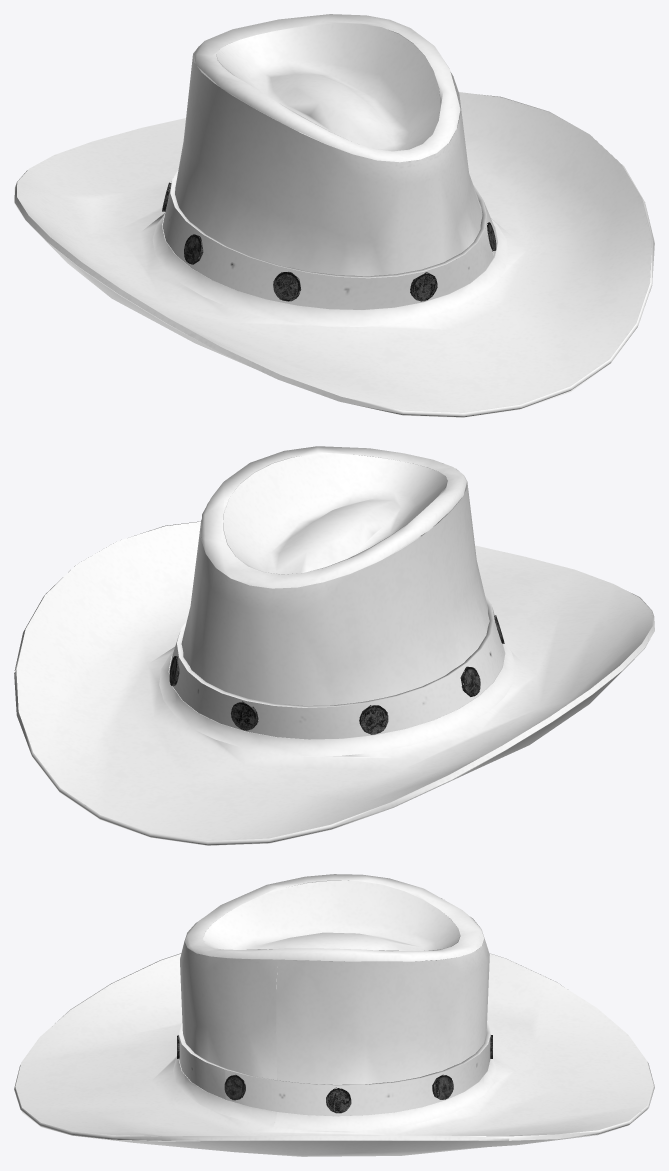
File: hat_white_cowboy.glb
3 views of the same model, one above another, from view 1: azimuth 30°, elevation 25°; view 2: azimuth 150°, elevation 25°; view 3: azimuth 270°, elevation 25° (orthographic). The views are drawn at different scales.
Parts seen in each view (by area): view 1: Object_2; view 2: Object_2; view 3: Object_2.
Boxes of the visible parts, left/top/right/bottom form: Object_2: left=14, top=14, right=654, bottom=417; Object_2: left=14, top=446, right=654, bottom=845; Object_2: left=14, top=874, right=654, bottom=1156.
Bounding box in the file's own units: 5.26 × 2.04 × 6.68.
1 material, 1 textured.
